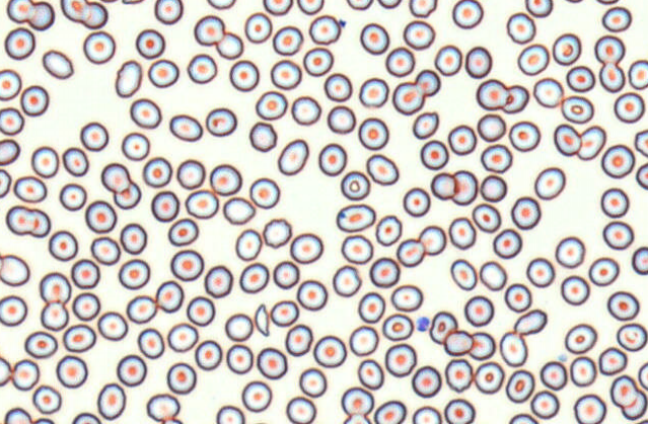PLT: (415, 314, 430, 333), (558, 353, 568, 363)
RBC: (5, 204, 50, 237), (335, 203, 375, 232), (601, 144, 635, 178), (277, 138, 308, 175), (97, 382, 126, 420), (55, 355, 88, 388), (392, 81, 424, 115), (384, 343, 416, 377), (83, 30, 115, 64), (114, 59, 142, 97), (39, 271, 71, 304), (84, 200, 116, 233), (313, 335, 346, 367), (170, 249, 203, 281), (209, 163, 242, 195), (289, 232, 323, 263), (534, 166, 565, 200), (476, 78, 508, 110), (366, 153, 398, 185), (508, 120, 540, 152), (517, 43, 549, 75), (613, 91, 645, 123), (4, 27, 35, 60), (473, 361, 504, 394), (564, 323, 597, 354), (510, 196, 541, 229), (340, 386, 374, 416), (184, 189, 218, 219), (577, 125, 606, 160), (241, 380, 272, 412), (256, 347, 287, 379), (118, 258, 150, 289), (607, 290, 639, 321), (0, 253, 30, 286), (573, 393, 606, 423), (340, 234, 373, 264), (358, 117, 388, 150), (609, 374, 638, 408), (146, 393, 180, 422), (505, 369, 534, 403), (444, 358, 473, 392), (62, 323, 96, 352), (204, 264, 233, 298), (318, 142, 347, 176), (499, 331, 527, 366), (451, 169, 478, 205), (193, 14, 224, 45), (296, 279, 327, 310), (369, 256, 400, 287), (463, 295, 494, 326), (594, 34, 625, 65), (249, 177, 280, 208), (411, 365, 441, 397), (166, 362, 196, 394), (116, 354, 146, 386), (41, 49, 73, 79), (308, 14, 340, 44), (270, 59, 302, 89), (359, 22, 389, 54), (147, 58, 179, 88), (229, 59, 259, 91), (480, 143, 512, 173), (602, 220, 634, 250), (255, 90, 287, 120), (555, 236, 585, 268), (129, 98, 161, 128), (332, 264, 361, 297), (30, 145, 59, 178), (552, 32, 581, 65), (429, 310, 457, 344), (100, 162, 130, 193), (97, 311, 128, 341), (70, 258, 100, 289), (167, 322, 198, 352), (262, 217, 292, 248), (348, 325, 378, 356), (239, 262, 269, 293), (302, 46, 333, 76), (588, 256, 619, 286), (272, 25, 303, 55), (135, 28, 165, 59), (385, 46, 415, 77), (358, 77, 388, 108), (142, 156, 172, 187), (533, 77, 563, 108), (48, 229, 77, 261), (506, 12, 535, 44), (403, 20, 435, 49), (205, 107, 237, 136), (155, 280, 183, 313), (222, 196, 255, 224), (24, 330, 57, 358), (13, 175, 46, 203), (553, 123, 581, 156), (448, 216, 476, 249), (169, 113, 202, 141), (464, 45, 492, 78), (561, 95, 594, 123), (513, 308, 547, 335), (340, 170, 370, 200), (471, 202, 501, 232), (492, 228, 522, 258), (187, 53, 217, 83), (291, 95, 321, 125), (186, 295, 215, 326), (126, 294, 157, 323), (616, 322, 647, 351), (167, 217, 198, 246), (176, 158, 205, 189), (447, 124, 476, 155), (11, 358, 39, 390), (357, 291, 385, 323), (451, 0, 483, 28), (20, 84, 48, 116), (151, 190, 179, 222), (119, 222, 147, 254), (434, 44, 462, 76), (285, 323, 312, 356), (40, 300, 69, 330), (298, 367, 327, 397), (32, 384, 61, 414), (90, 236, 120, 265), (560, 275, 589, 305), (526, 257, 555, 287), (79, 121, 108, 151), (327, 104, 356, 134), (600, 187, 629, 217), (285, 395, 316, 423), (194, 339, 222, 370), (382, 313, 413, 341), (402, 186, 430, 217), (244, 12, 272, 43), (249, 121, 277, 152), (420, 139, 448, 170), (0, 294, 27, 326), (235, 228, 262, 260), (137, 327, 164, 359), (390, 284, 422, 311), (450, 258, 477, 290), (375, 214, 402, 246), (224, 312, 253, 341), (530, 390, 559, 419), (598, 346, 627, 375), (477, 113, 506, 142), (323, 72, 352, 101), (539, 360, 567, 390), (418, 225, 446, 255), (569, 356, 596, 387), (113, 180, 141, 209), (72, 292, 100, 321), (396, 238, 424, 267), (121, 131, 149, 160), (443, 329, 473, 356), (226, 344, 253, 374), (479, 260, 506, 290), (62, 146, 89, 176), (598, 62, 625, 92), (621, 389, 647, 420), (357, 358, 383, 389), (601, 6, 632, 32), (443, 398, 475, 423), (373, 399, 406, 423), (215, 31, 243, 59), (479, 174, 507, 202), (27, 1, 54, 30), (502, 84, 529, 113), (468, 331, 495, 360), (270, 299, 299, 326), (272, 260, 299, 289), (59, 182, 86, 211), (504, 283, 531, 312), (566, 65, 595, 92), (81, 1, 108, 29), (430, 171, 456, 200), (412, 111, 438, 139), (415, 68, 440, 96), (154, 0, 183, 24), (0, 68, 21, 100), (0, 107, 24, 135), (60, 0, 89, 22), (6, 0, 33, 23), (627, 59, 647, 90), (0, 138, 20, 165), (215, 405, 245, 423), (412, 405, 441, 423), (408, 0, 436, 17), (631, 246, 647, 275), (525, 0, 552, 17), (262, 0, 292, 15), (4, 407, 31, 423), (296, 0, 324, 14), (634, 129, 647, 157), (0, 356, 12, 386), (0, 168, 11, 198), (508, 412, 538, 423), (71, 412, 101, 423), (635, 162, 647, 189), (343, 413, 371, 423), (346, 0, 373, 10), (206, 0, 235, 9), (638, 362, 647, 390), (377, 0, 401, 9), (160, 417, 182, 424), (33, 417, 54, 423), (595, 0, 619, 5), (121, 0, 144, 4), (99, 0, 118, 3), (564, 0, 583, 3)
Schistocyte: (254, 303, 270, 339)
